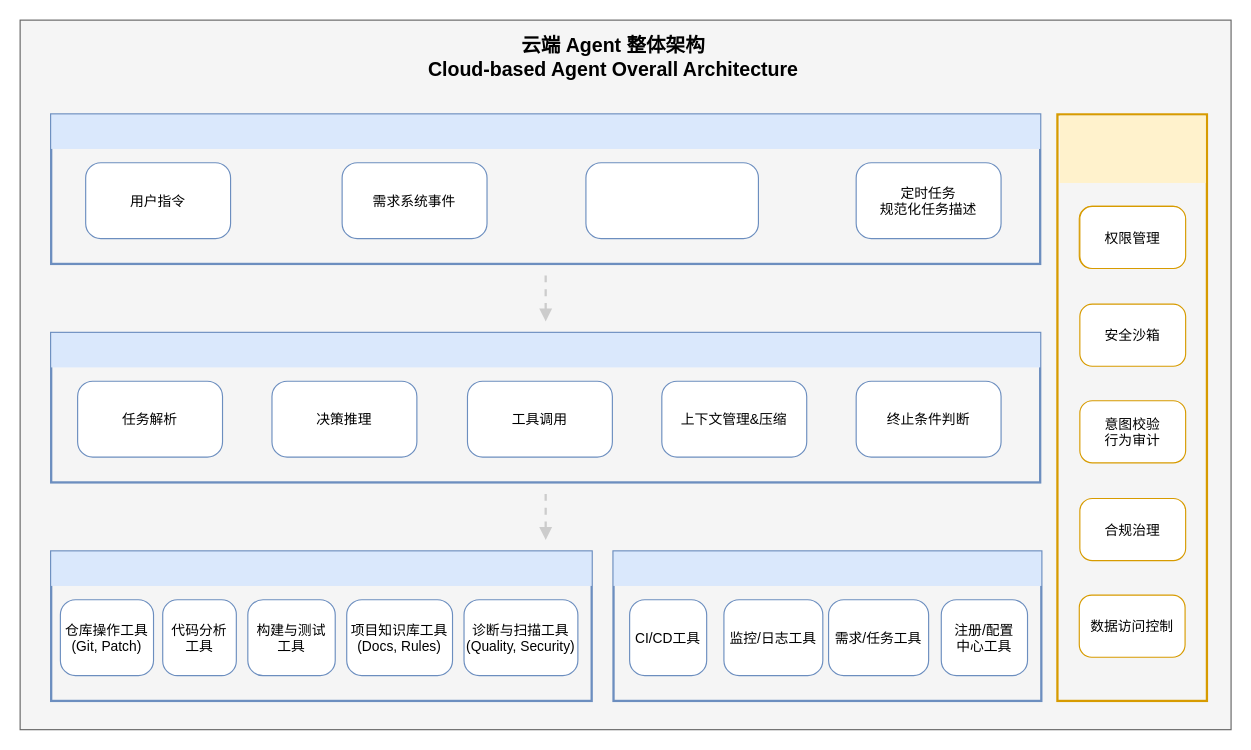
This 1251x750 diagram has some shape labels left out. The centre of each missing label's shape, as x and y in pixels:
"1. 任务入口层 Task Entry Layer" goes at point 545,131.
"2. 任务执行层 Task Execution Layer" goes at point 545,349.
"3. 工具层-内部工具 Internal Tools Layer" goes at point 321,568.
"3. 工具层-外部工具 MCP Tools Layer" goes at point 827,568.
"4. 安全与治理层 Security Governance" goes at point 1132,148.
"监控告警" goes at point 671,200.
